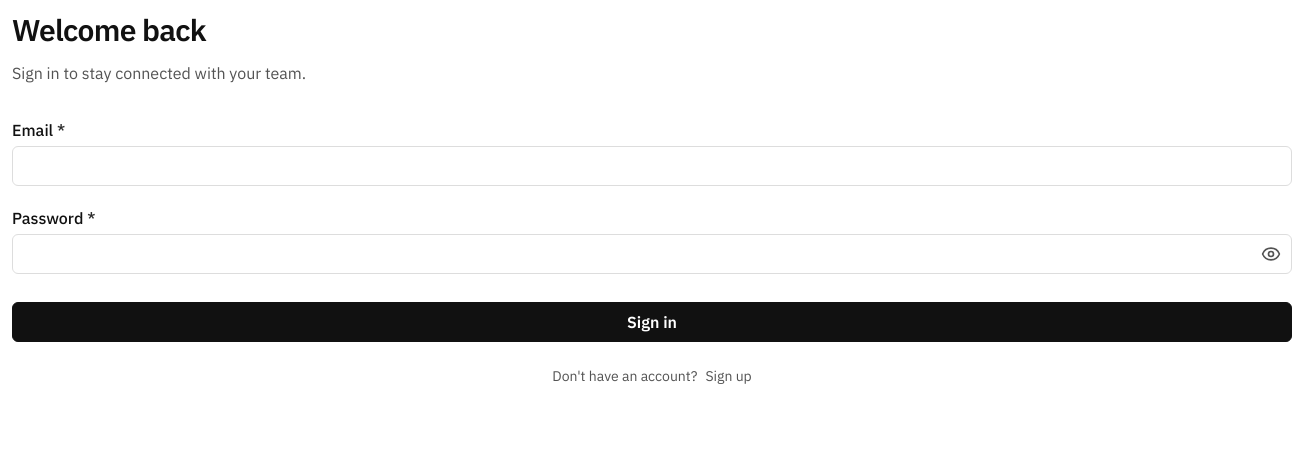
Test: login form › does not navigate when the request returns an internal server error
In the field labelled "Email": {"x": 652, "y": 166} [12, 146, 1292, 186], type "person@example.com"
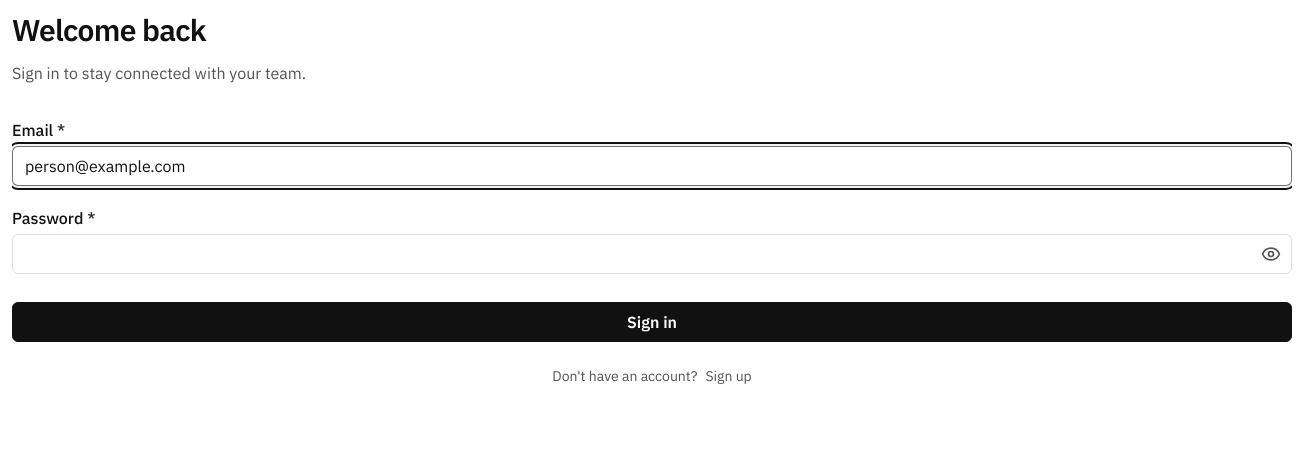
In the password field labelled "Password *": {"x": 652, "y": 254} [13, 235, 1291, 273], type "StrongPass123"
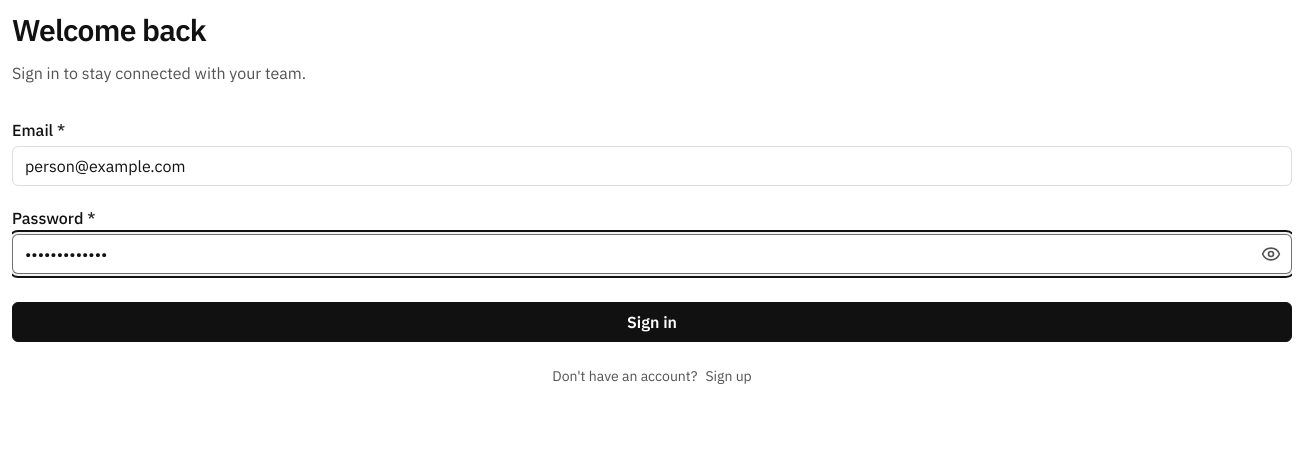
Click the button "Sign in": {"x": 652, "y": 322} [12, 302, 1292, 342]
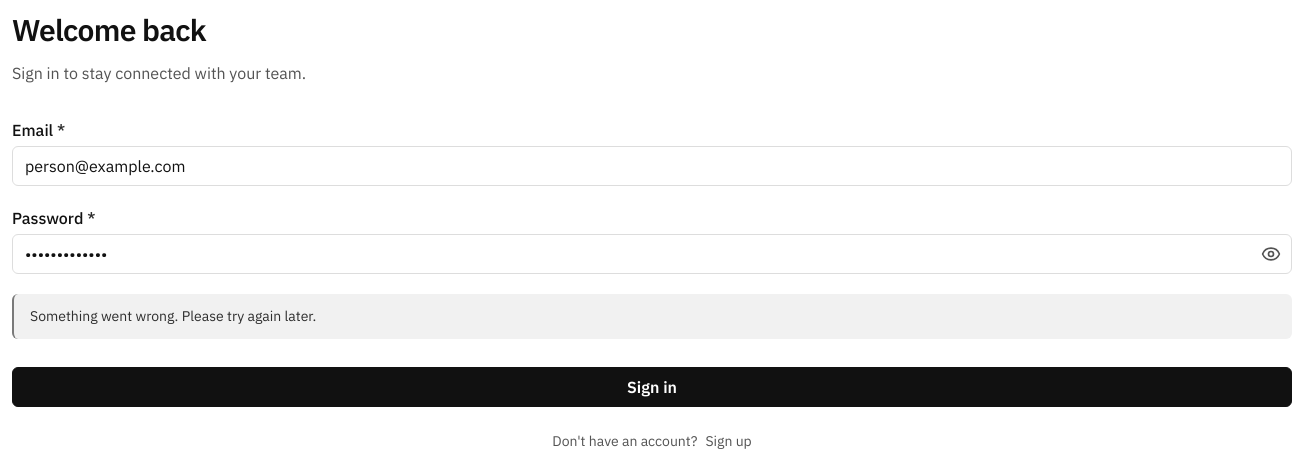
Expected: the message reads "Something went wrong. Please try again later.", [30, 307, 316, 325]
